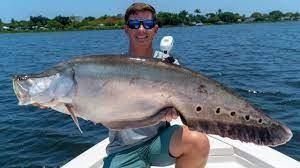Knifefish: (3, 55, 298, 164)
